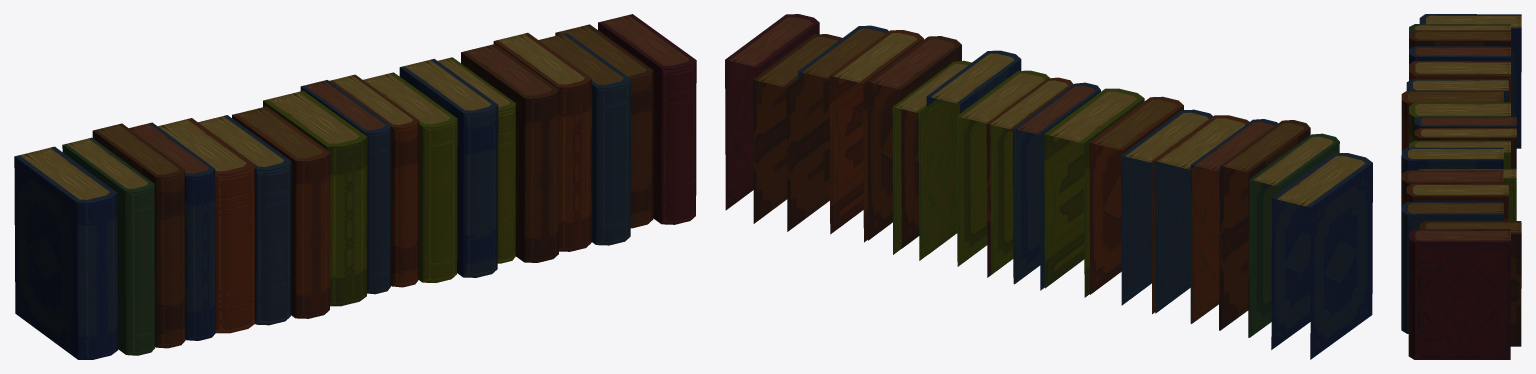
File: BookGroup_Medium_2.glb
3 views of the same model, side by side, from view 1: azimuth 30°, elevation 25°; view 2: azimuth 150°, elevation 25°; view 3: azimuth 270°, elevation 25° (orthographic). The views are drawn at different scales.
Parts seen in each view (by area): view 1: BookGroup_Medium_2; view 2: BookGroup_Medium_2; view 3: BookGroup_Medium_2.
Part boxes in pixels (x1,y1,x2,y2): BookGroup_Medium_2: (14, 14, 696, 359); BookGroup_Medium_2: (725, 14, 1372, 359); BookGroup_Medium_2: (1401, 14, 1521, 359).
Size of the model in its own units: 1.1 by 0.2949 by 0.2474.
Materials: 1 (1 with a texture image).
